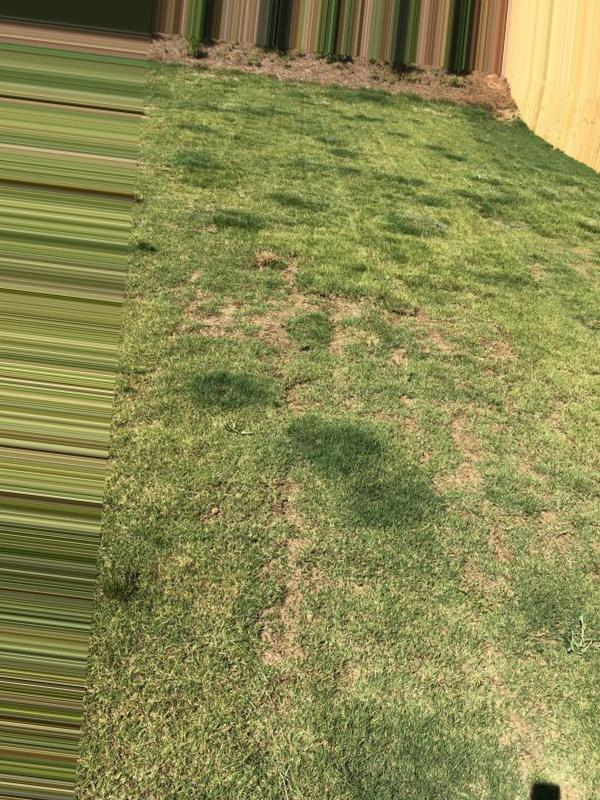patch: (418, 592, 535, 762), (336, 291, 450, 385), (263, 474, 320, 646), (192, 285, 315, 356), (425, 397, 492, 480)
